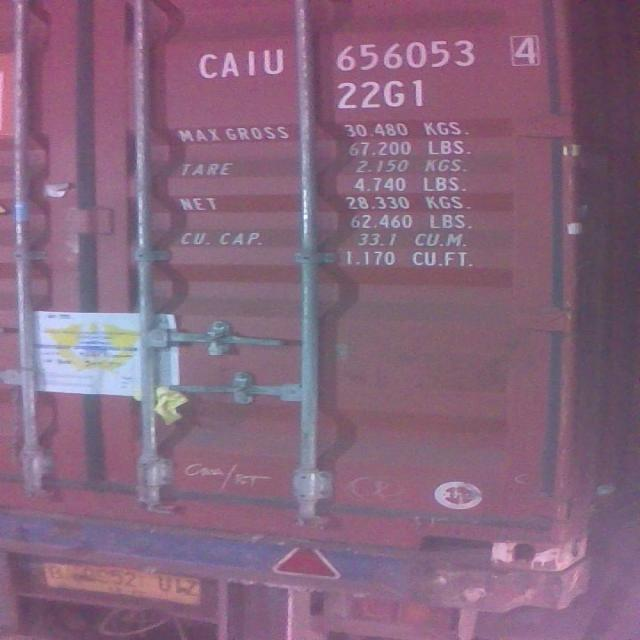seal: (199, 328, 225, 360)
